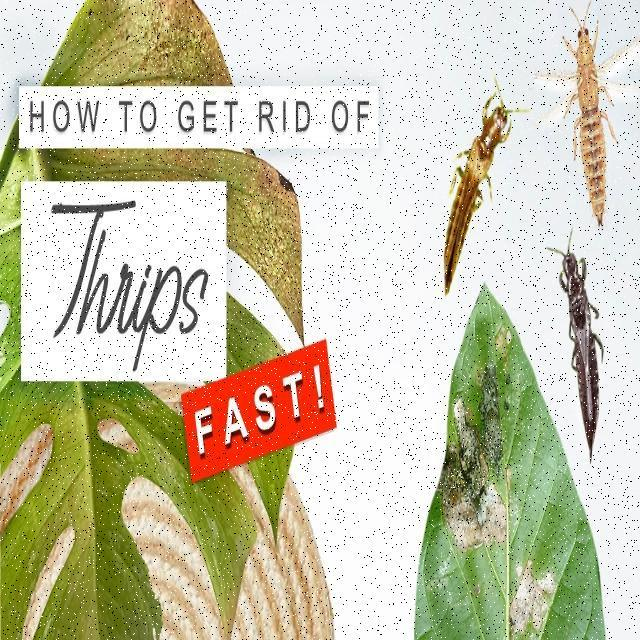Thrips: (396, 60, 525, 305), (545, 225, 625, 470), (560, 8, 634, 251)
